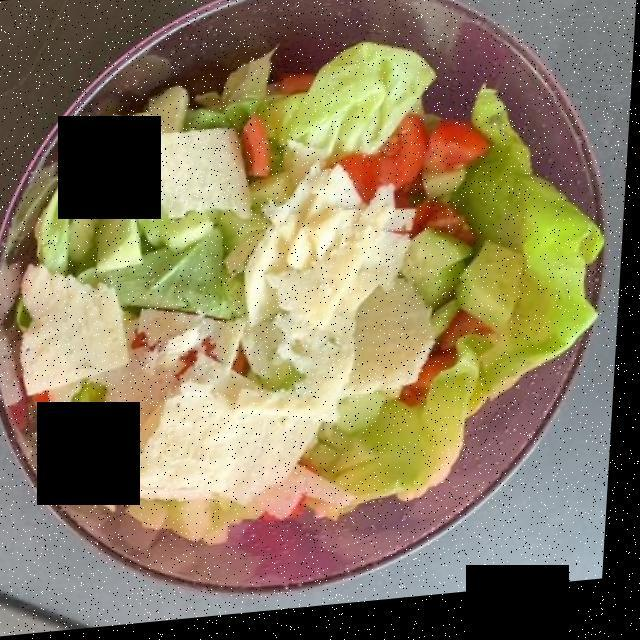cheese: (5, 117, 451, 506)
cucumber: (91, 187, 534, 339)
salad: (4, 62, 596, 526)
tomato: (231, 112, 484, 413)
